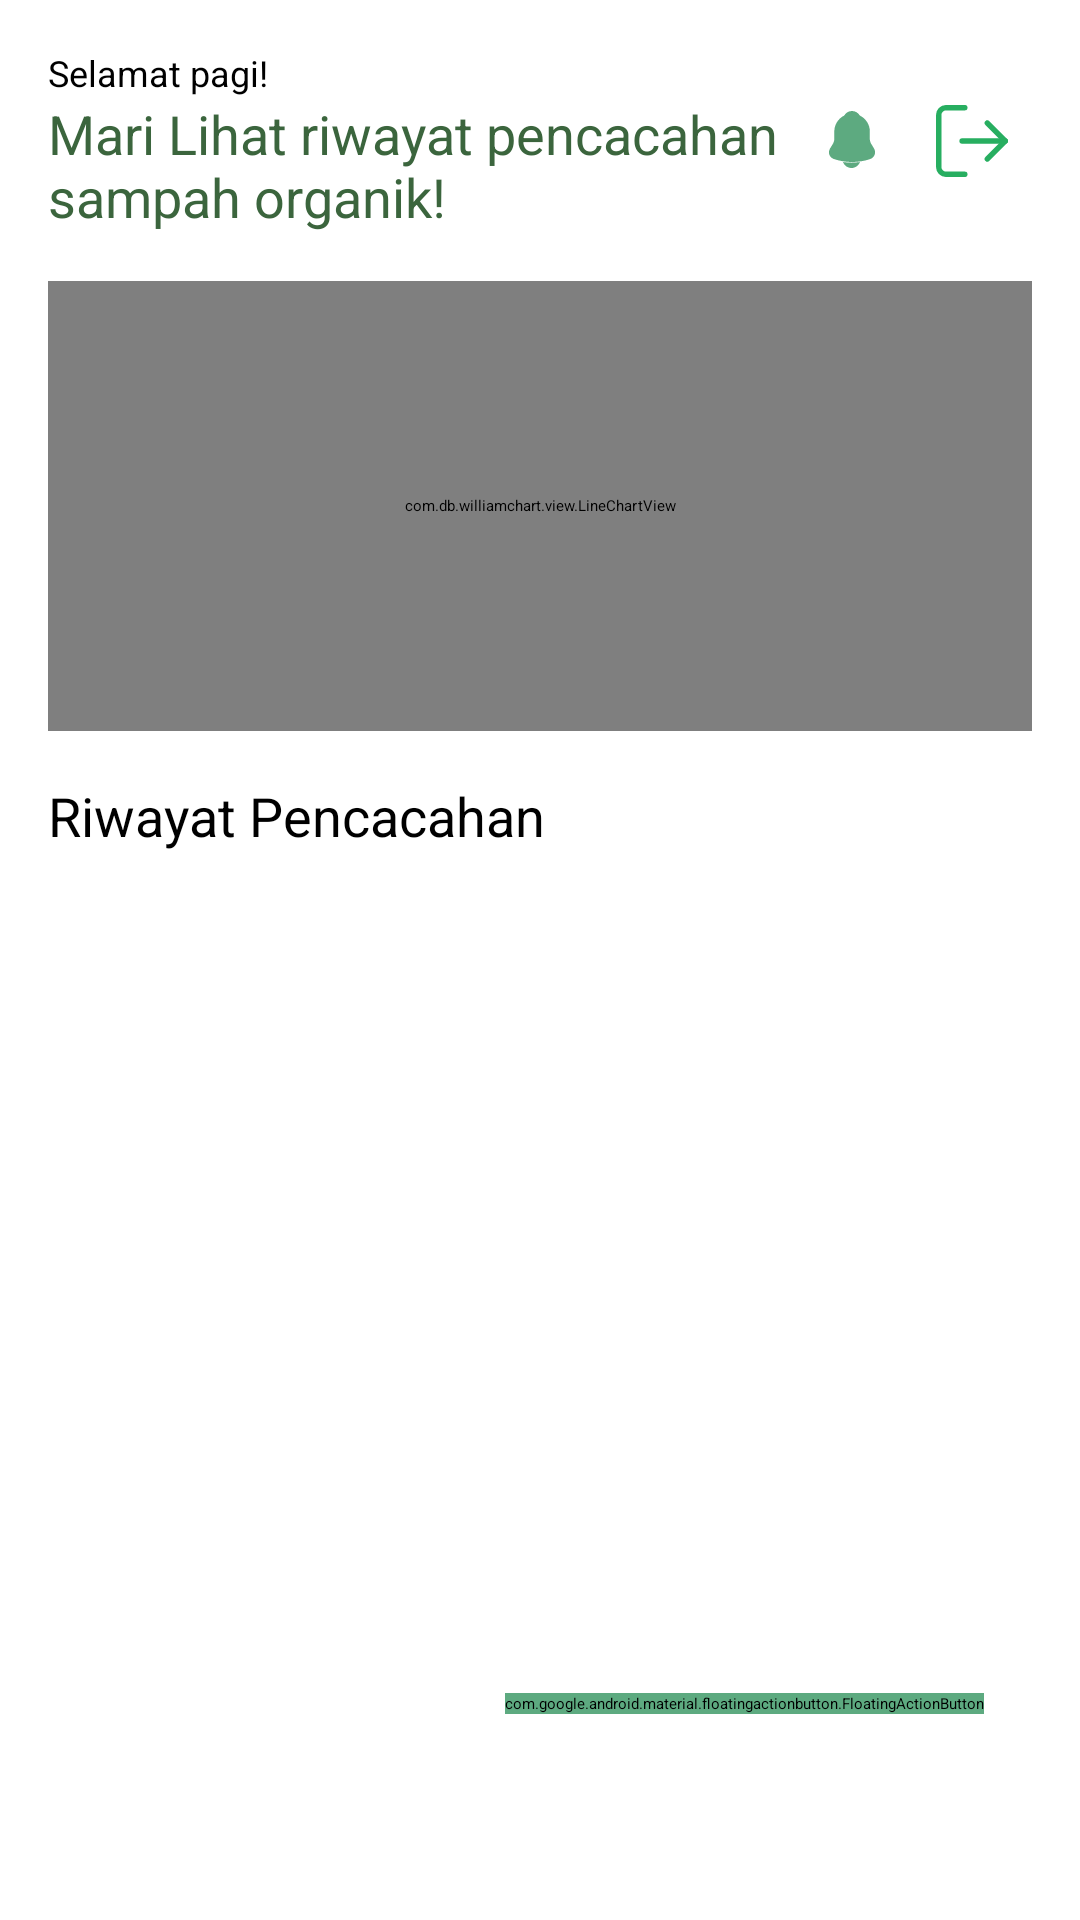

Icon click points for this 1080 x 1920 phone screenshot, format (x,y):
Notification: (852,139)
